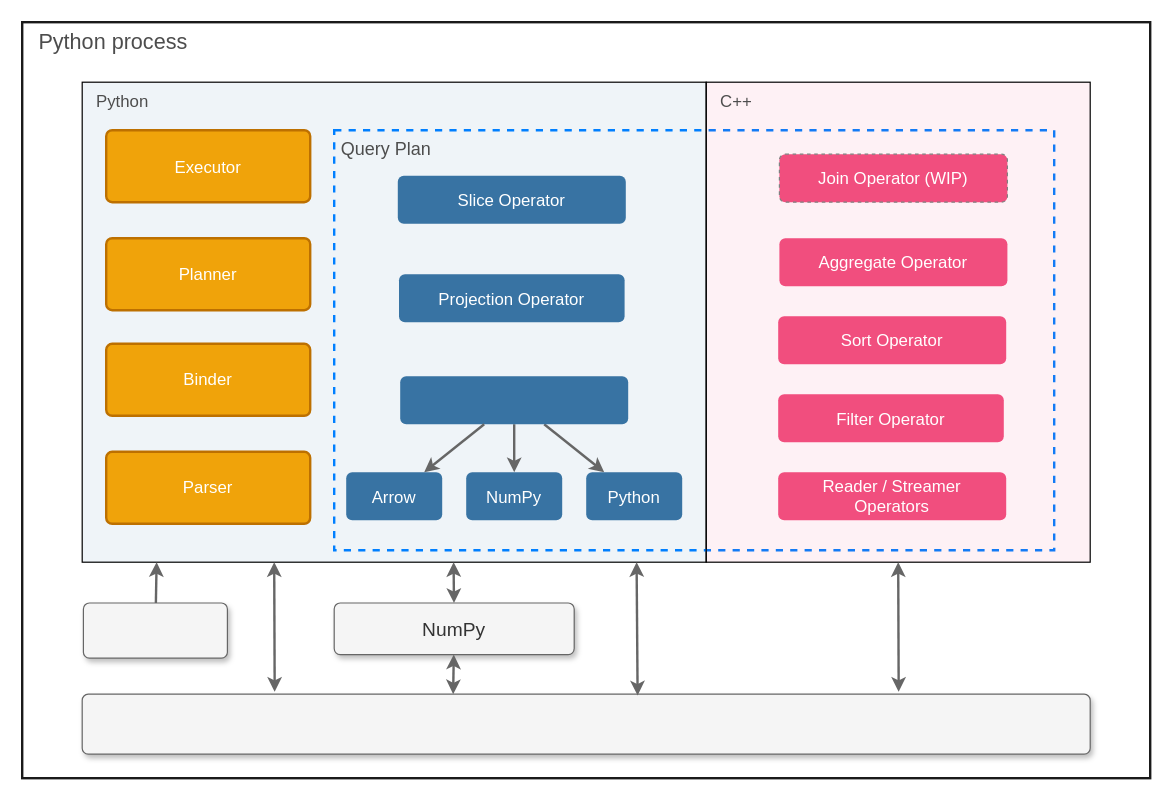
Image size: 1171x799. Some labels were removed from this diagram. Here are the shapes that lost their labels. From the top down, the centre of each, then its label:
At point 514,400: "Expression".
At point 156,632: "pglast".
At point 586,725: "Apache Arrow >>>".
